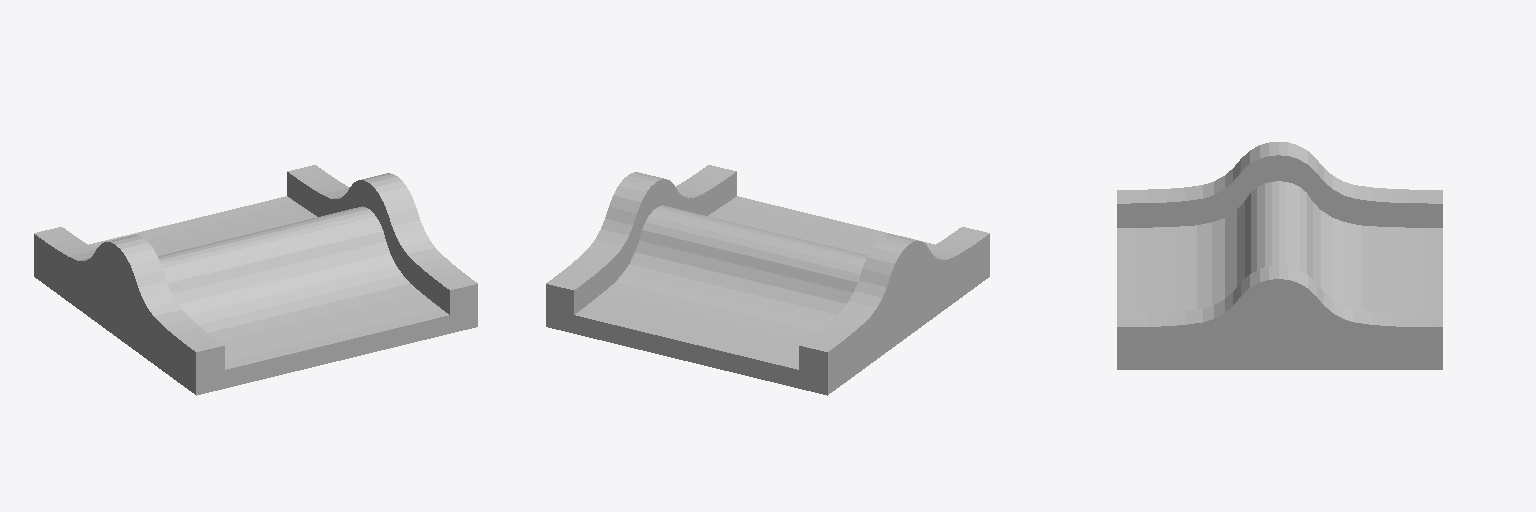
File: smallSlope.obj
The picture shows the model from 3 angles: view 1: azimuth 30°, elevation 25°; view 2: azimuth 150°, elevation 25°; view 3: azimuth 270°, elevation 25°; orthographic projection.
Parts seen in each view (by area): view 1: smallSlope2; view 2: smallSlope2; view 3: smallSlope2.
Boxes of the visible parts, x1,y1,x2,y2 form: smallSlope2: [34, 165, 477, 395]; smallSlope2: [546, 165, 989, 395]; smallSlope2: [1117, 142, 1442, 369].
Bounding box in the file's own units: 3 × 0.9307 × 3.